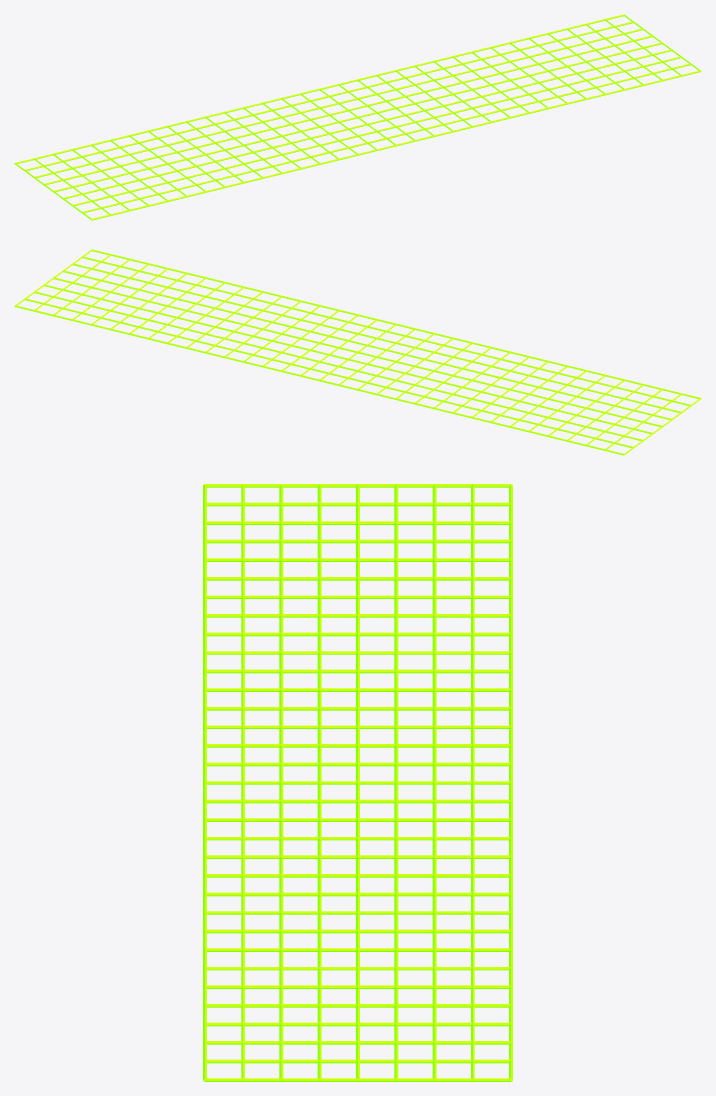
Rendered from reticleDesktop.glb.
3 renders of one model, top to bottom at view 1: azimuth 30°, elevation 25°; view 2: azimuth 150°, elevation 25°; view 3: azimuth 270°, elevation 25°, orthographic. The views are drawn at different scales.
Visible parts, largest first — view 1: reticle; view 2: reticle; view 3: reticle.
Part boxes in pixels (left/top/right/bottom): reticle: left=14, top=14, right=701, bottom=220; reticle: left=14, top=249, right=701, bottom=455; reticle: left=203, top=484, right=512, bottom=1081.
Size of the model in its own units: 5.18 by 0.0145 by 1.14.
